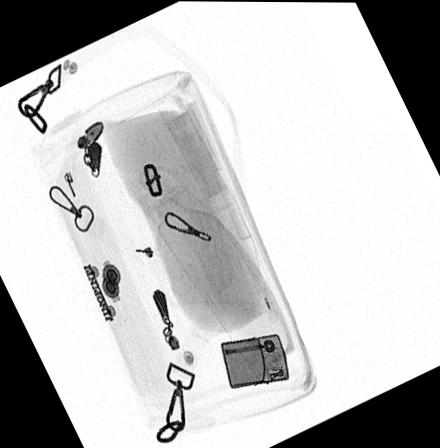Lighter: (220, 333, 288, 389)
